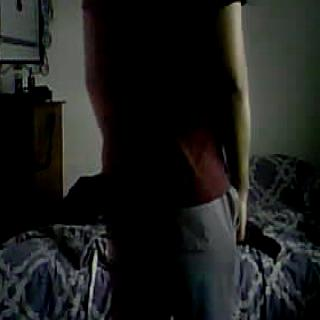Gray Sweatpants: (105, 190, 238, 320)
Maroon T-Shirt: (89, 0, 241, 186)
